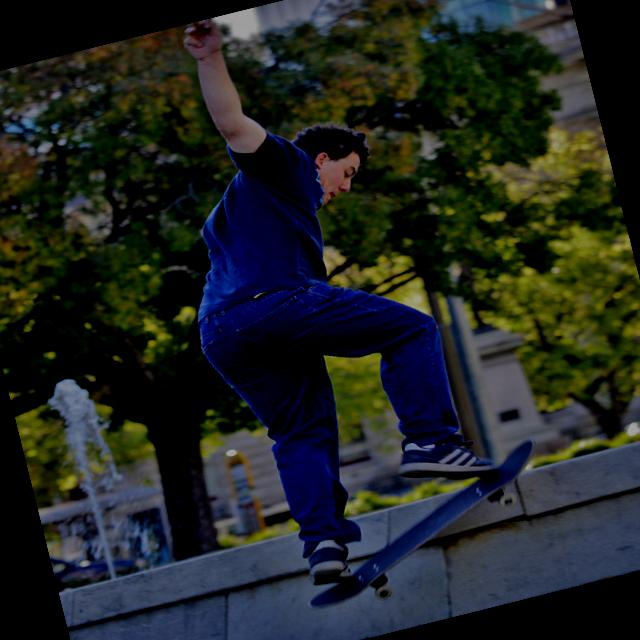Vehicle: (48, 530, 144, 590)
